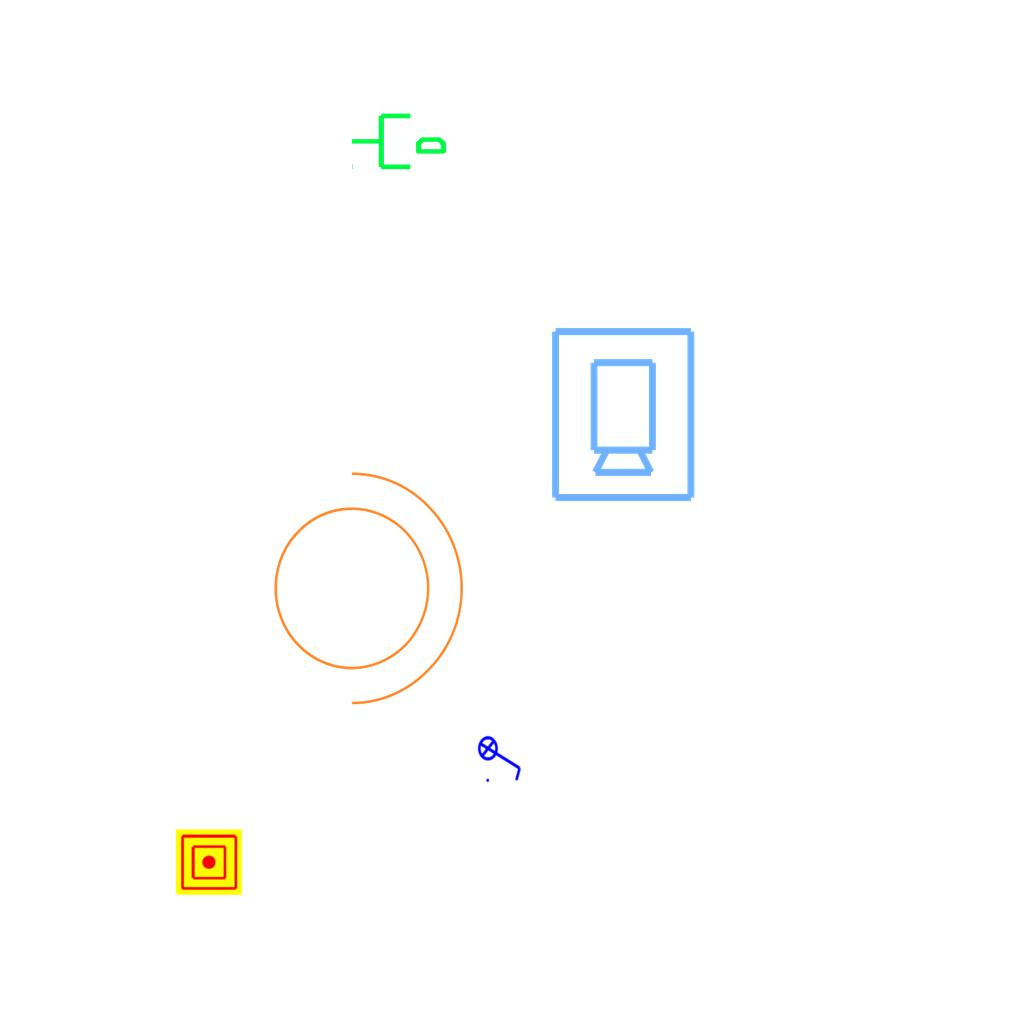Ausschalter_beleuchtet: (477, 729, 525, 785)
Datenanschluss_einfach: (349, 105, 449, 174)
KFO_Kamera_mit_Festobjektiv: (545, 323, 699, 505)
NAM-Nichtautomatischer_Melder: (176, 829, 242, 895)
Scheinwerfer_fuer_Alarmbeleuchtung: (249, 450, 474, 714)
